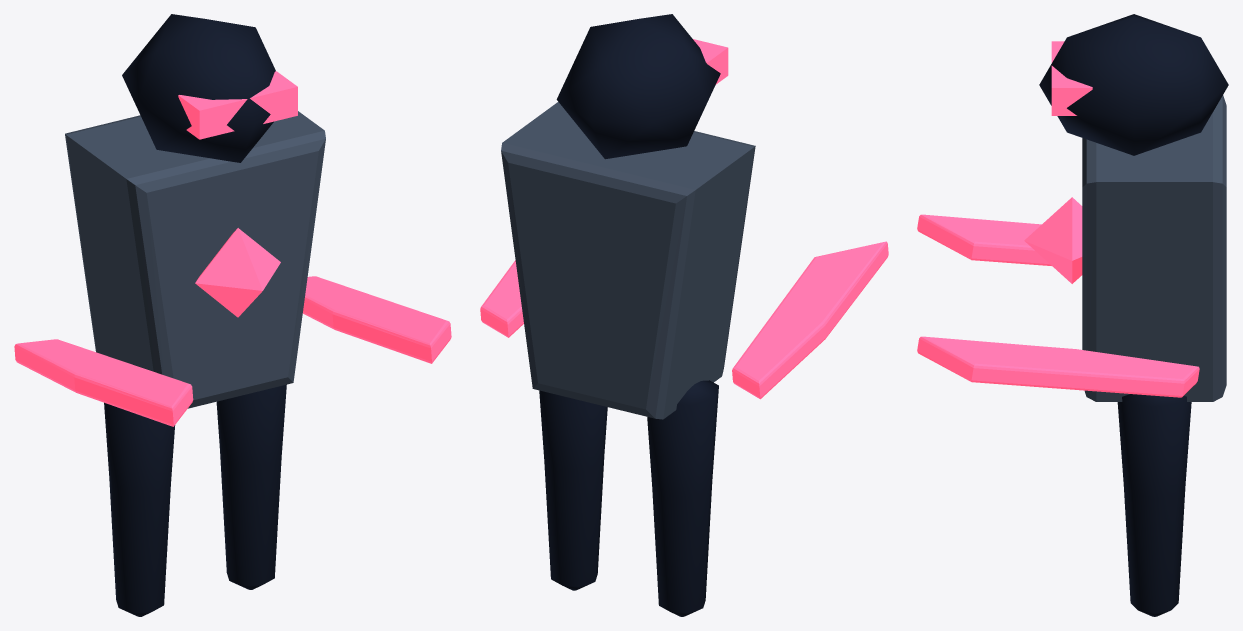
File: enemy_grunt.glb
3 views of the same model, side by side, from view 1: azimuth 30°, elevation 25°; view 2: azimuth 150°, elevation 25°; view 3: azimuth 270°, elevation 25° (orthographic). The views are drawn at different scales.
Visible parts, largest first — view 1: GruntTorso, GruntHead, GruntLegL, GruntLegR, GruntClawL, GruntClawR, GruntCore, GruntVisor; view 2: GruntTorso, GruntHead, GruntLegL, GruntLegR, GruntClawL, GruntClawR, GruntVisor; view 3: GruntTorso, GruntHead, GruntLegR, GruntClawR, GruntClawL, GruntCore, GruntVisor.
Boxes of the visible parts, x1,y1,x2,y2 form: GruntTorso: (65, 111, 325, 408); GruntHead: (122, 14, 275, 162); GruntLegL: (104, 402, 175, 616); GruntLegR: (216, 384, 286, 589); GruntClawL: (14, 339, 193, 426); GruntClawR: (302, 276, 451, 363); GruntCore: (195, 228, 280, 317); GruntVisor: (178, 71, 297, 139); GruntTorso: (501, 102, 755, 419); GruntHead: (556, 14, 720, 159); GruntLegL: (647, 380, 718, 616); GruntLegR: (539, 390, 607, 590); GruntClawL: (732, 241, 888, 399); GruntClawR: (480, 260, 523, 337); GruntVisor: (693, 39, 728, 84); GruntTorso: (1082, 95, 1226, 401); GruntHead: (1039, 14, 1228, 155); GruntLegR: (1117, 394, 1191, 616); GruntClawR: (917, 336, 1199, 397); GruntClawL: (917, 214, 1051, 265); GruntCore: (1024, 197, 1082, 283); GruntVisor: (1051, 41, 1092, 115).
Bounding box in the file's own units: 1.05 × 1.84 × 0.9073.
